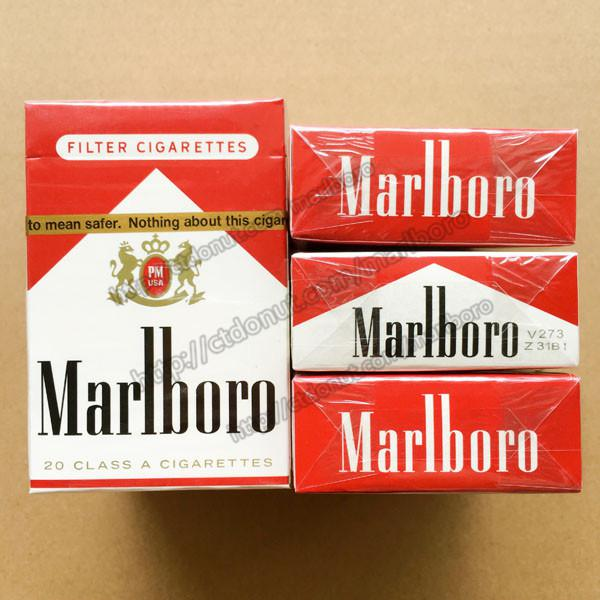marlboro_red: (27, 106, 290, 491)
